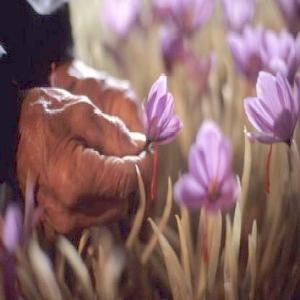Saffron: (180, 121, 241, 209), (250, 72, 300, 149), (140, 81, 183, 149)
